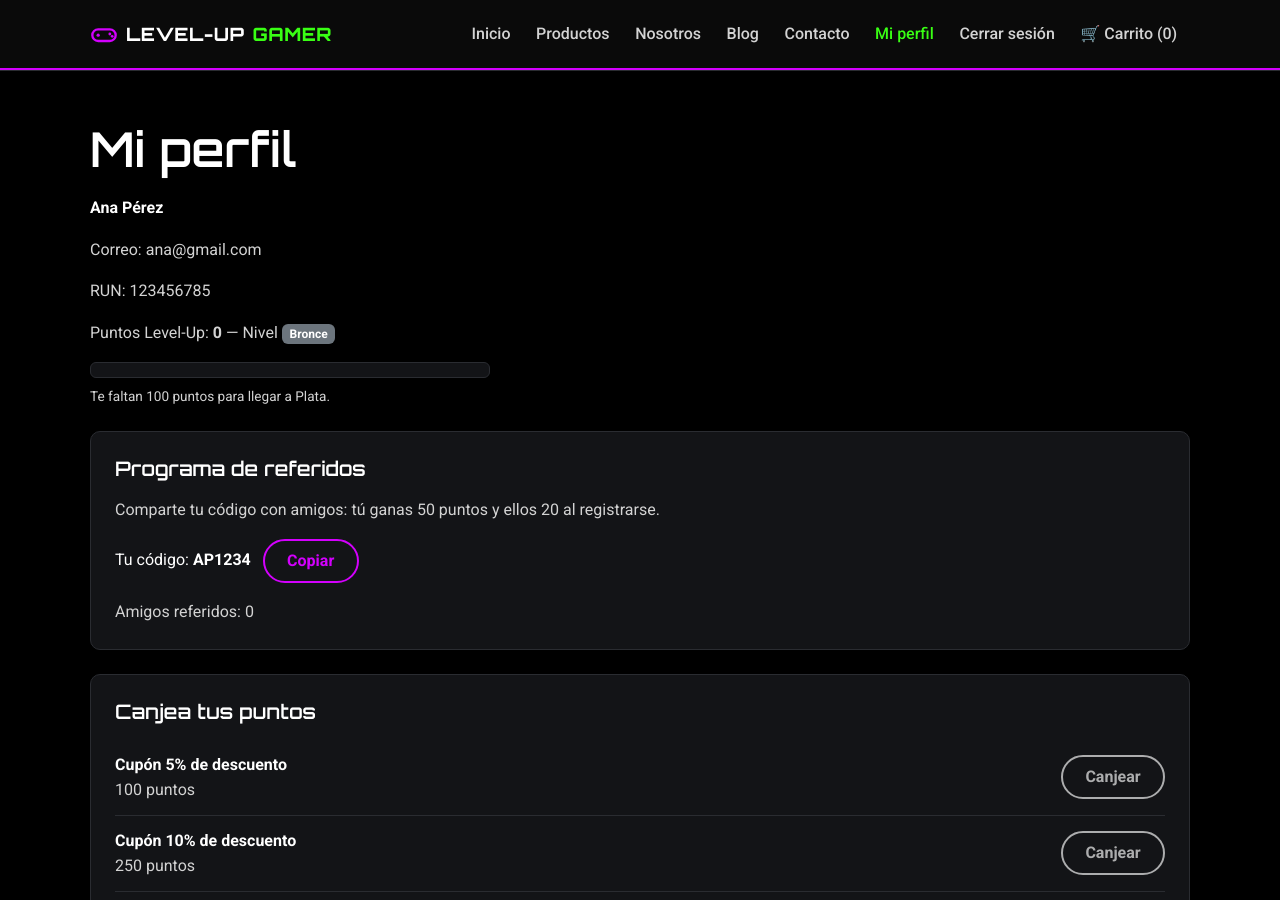
Test: <Perfil /> (perfil, fidelización y edición de datos) › el botón de cerrar sesión del encabezado también funciona
Step 1. Click the button "Cerrar sesión" → [1007, 34], box [947,15,1068,53]
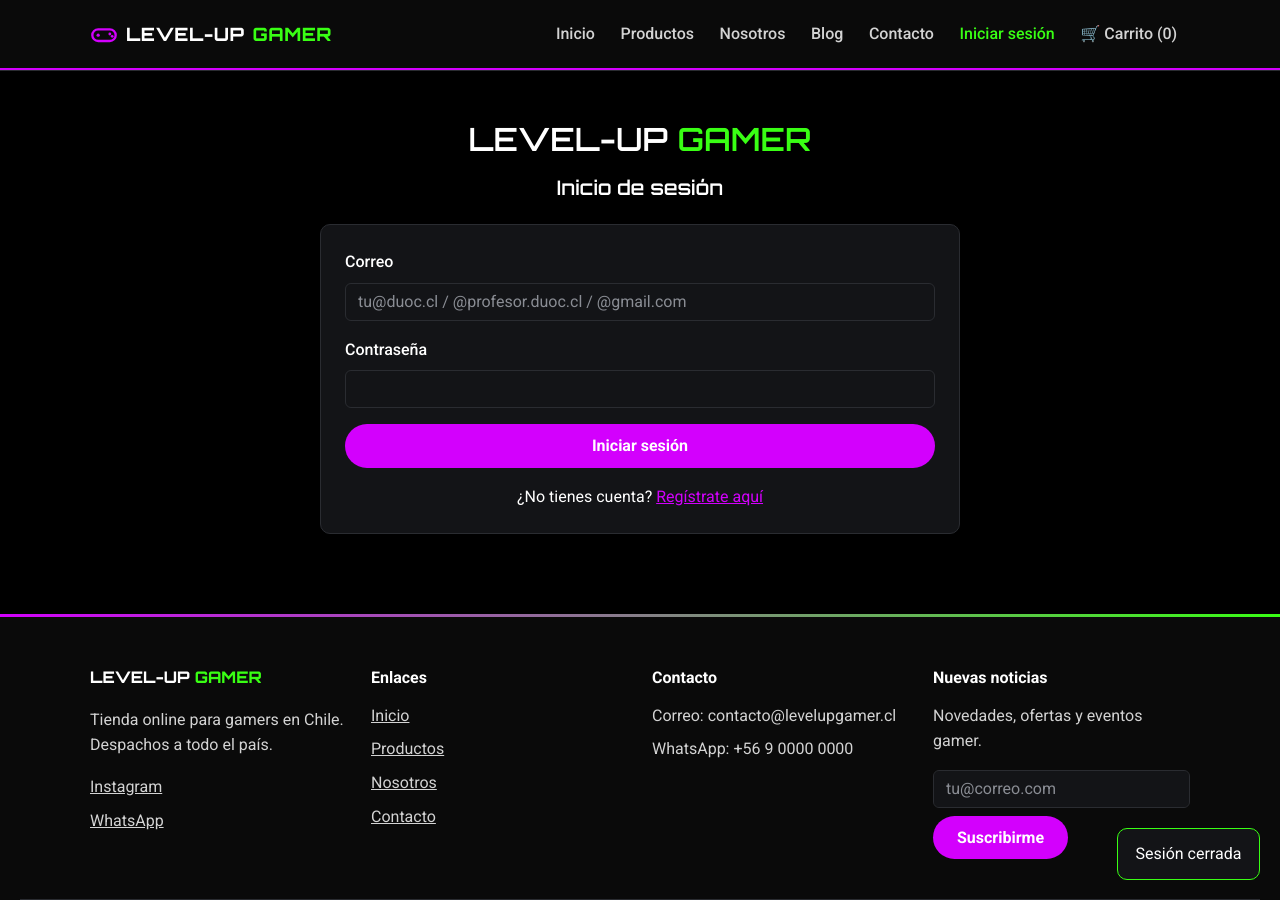
Expected: the text "Sesión cerrada" is shown, [1117,828,1260,880]
